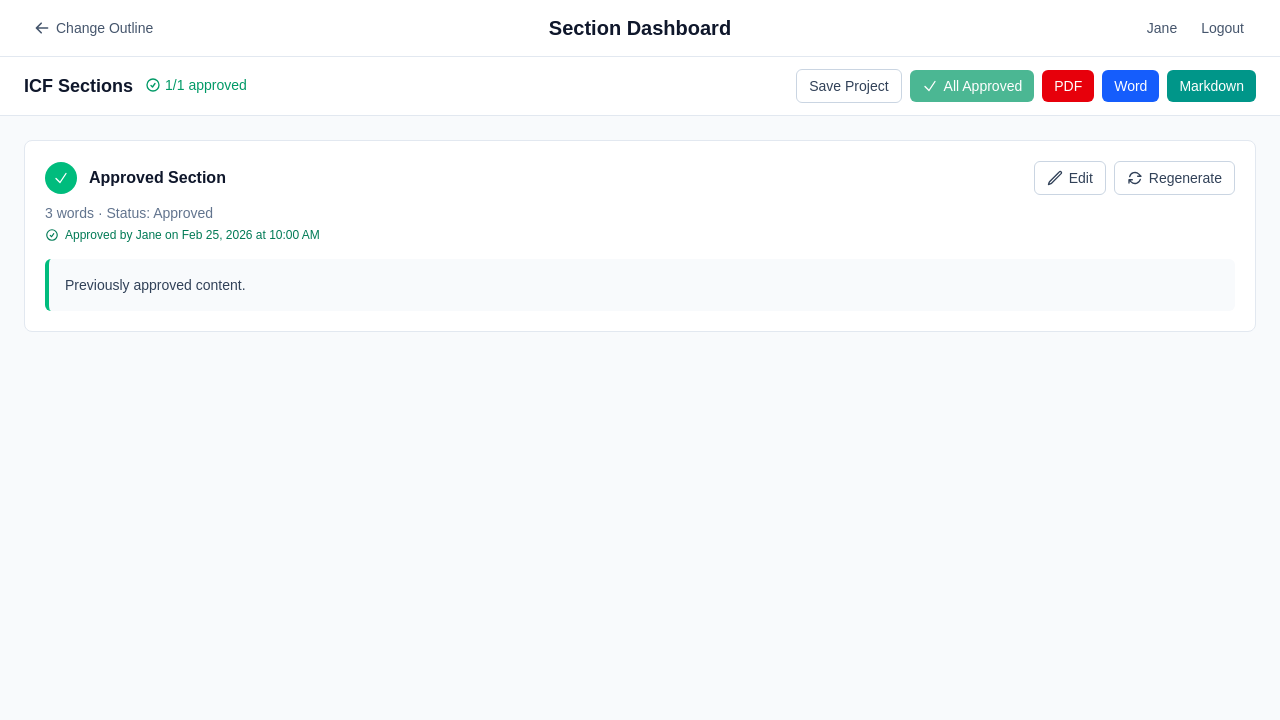
Dashboard Page › editing an approved section immediately clears the approval badge
Expected: the text "Approved by Jane on Feb 25, 2026 at 10:00 AM" is shown, [65,227,320,243]
Note: Click Edit
Click the button with aria-label "edit approved section".
click(1070, 178)  # box [1034,161,1106,195]
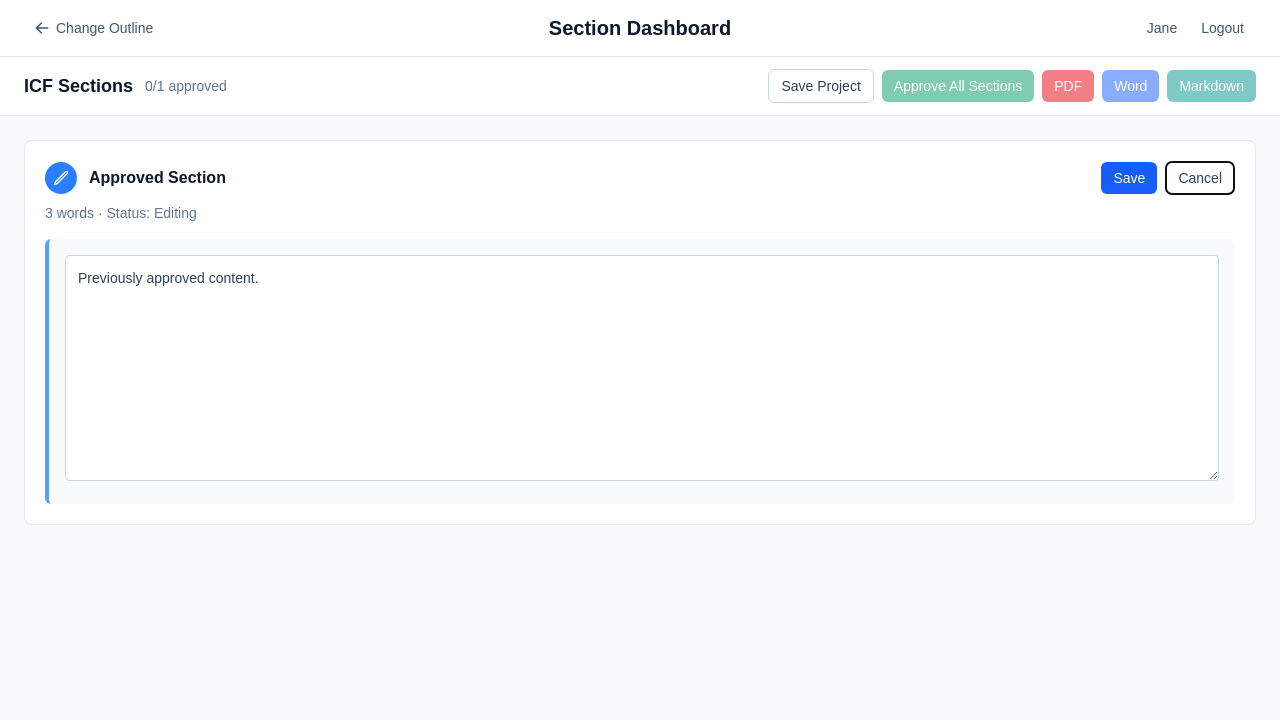
Now the text "Approved by" is gone
